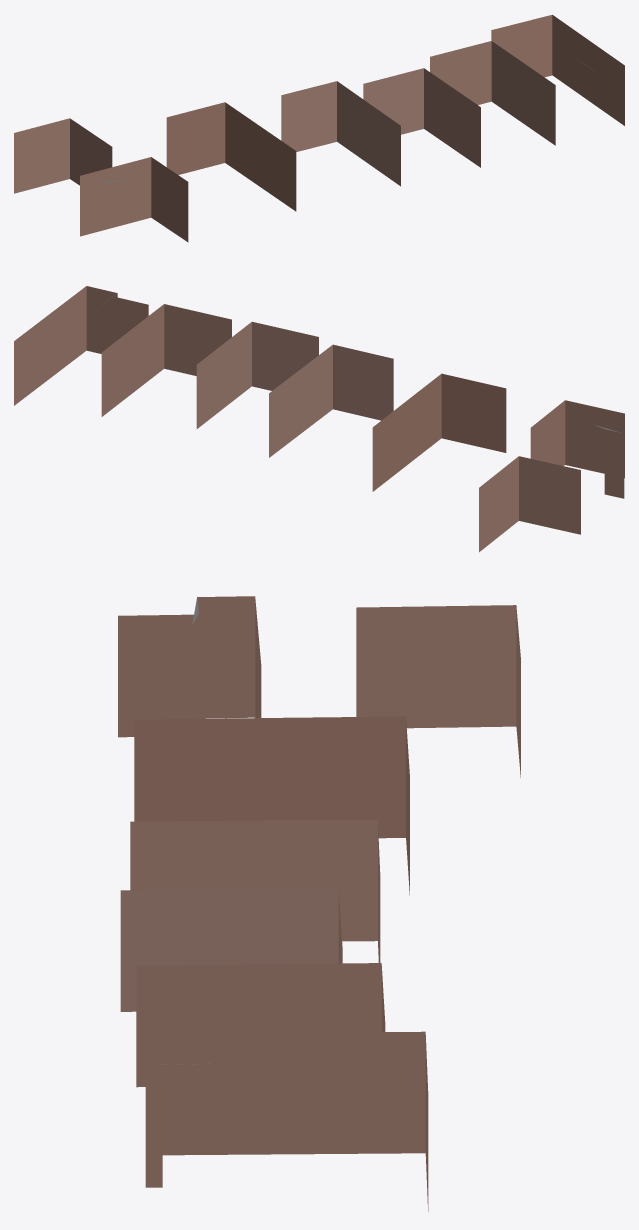
File: c_1638_17824_buildings_residential.glb
3 renders of one model, top to bottom at view 1: azimuth 30°, elevation 25°; view 2: azimuth 150°, elevation 25°; view 3: azimuth 270°, elevation 25°, orthographic. The views are drawn at different scales.
Parts seen in each view (by area): view 1: geometry_0; view 2: geometry_0; view 3: geometry_0.
Boxes of the visible parts, left/top/right/bottom form: geometry_0: left=14, top=14, right=624, bottom=242; geometry_0: left=14, top=286, right=624, bottom=552; geometry_0: left=118, top=596, right=520, bottom=1211.
Size of the model in its own units: 84.87 by 10.91 by 28.58.
